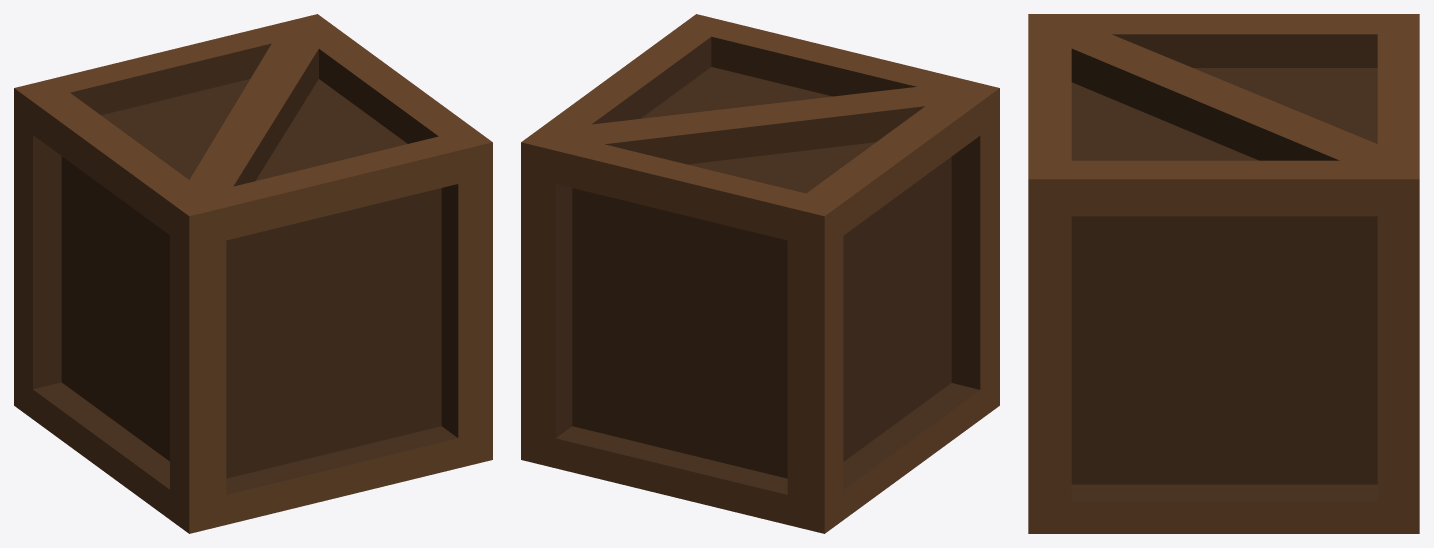
Rendered from caixa.fbx.
3 renders of one model, left to right at view 1: azimuth 30°, elevation 25°; view 2: azimuth 150°, elevation 25°; view 3: azimuth 270°, elevation 25°, orthographic. The views are drawn at different scales.
Parts seen in each view (by area): view 1: Cube; view 2: Cube; view 3: Cube.
Boxes of the visible parts, x1,y1,x2,y2 form: Cube: (14,14,492,533); Cube: (521,14,999,533); Cube: (1028,14,1419,533).
Size of the model in its own units: 200 by 200 by 200.
